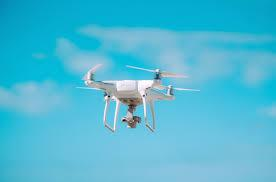drone_other: (74, 63, 200, 133)
